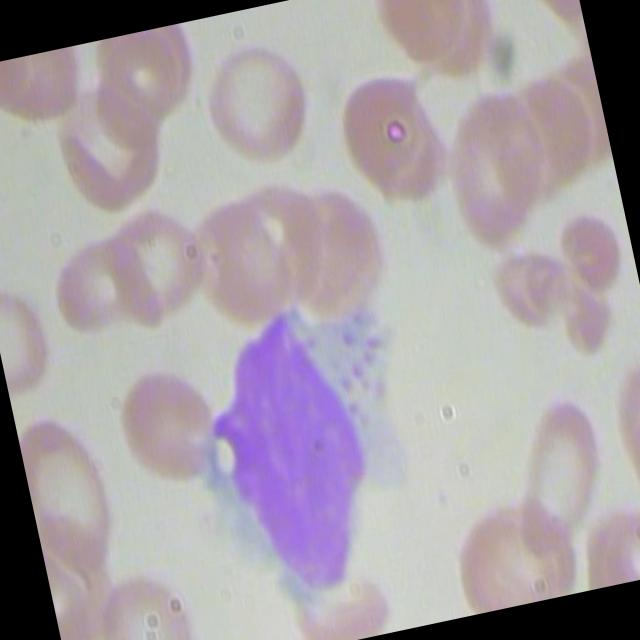RBC: (325, 50, 467, 232), (485, 376, 627, 557), (40, 58, 182, 230), (426, 80, 546, 251), (14, 404, 128, 584), (193, 30, 322, 168), (100, 352, 228, 490), (438, 490, 566, 616), (98, 200, 214, 330), (42, 220, 158, 340), (82, 554, 211, 640)
WBC: (158, 283, 451, 622)
